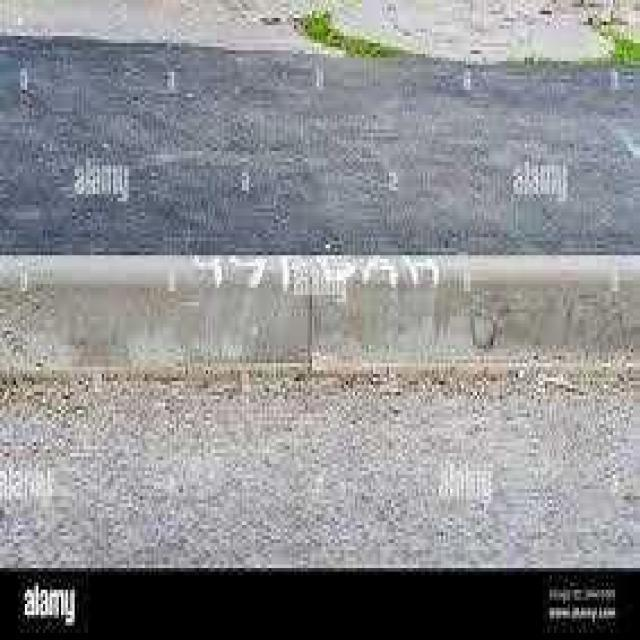bump: (13, 207, 640, 410)
